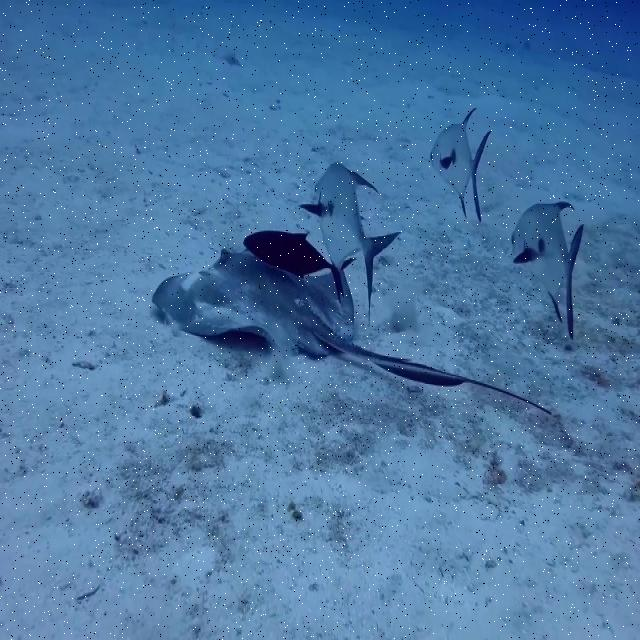fish: (153, 258, 505, 392), (307, 166, 409, 314), (510, 206, 584, 335), (248, 230, 358, 291), (431, 114, 490, 219)
